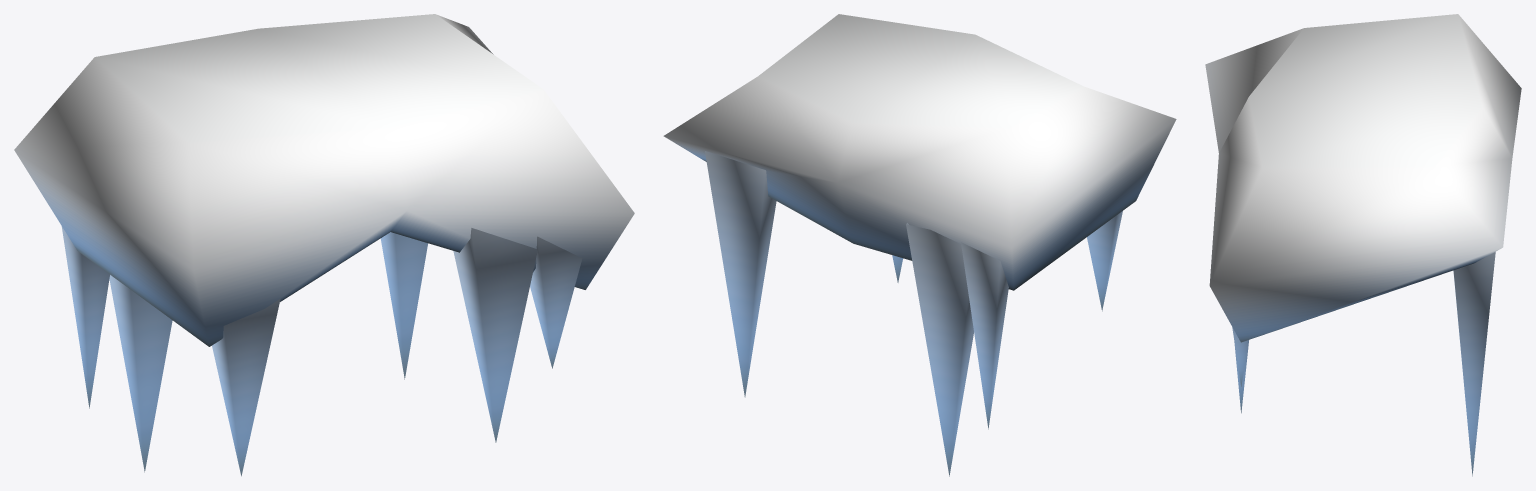
The model's file is deco_winter_wall_snowPatchB.FBX.
3 renders of one model, left to right at view 1: azimuth 30°, elevation 25°; view 2: azimuth 150°, elevation 25°; view 3: azimuth 270°, elevation 25°, orthographic. The views are drawn at different scales.
Parts seen in each view (by area): view 1: deco_winter_wall_snowPatchB; view 2: deco_winter_wall_snowPatchB; view 3: deco_winter_wall_snowPatchB.
Boxes of the visible parts, <box> form: deco_winter_wall_snowPatchB: <box>14,14,634,476</box>; deco_winter_wall_snowPatchB: <box>663,14,1176,476</box>; deco_winter_wall_snowPatchB: <box>1205,14,1521,476</box>.
Size of the model in its own units: 1.2 by 1.1 by 0.8742.
1 material, 1 textured.
